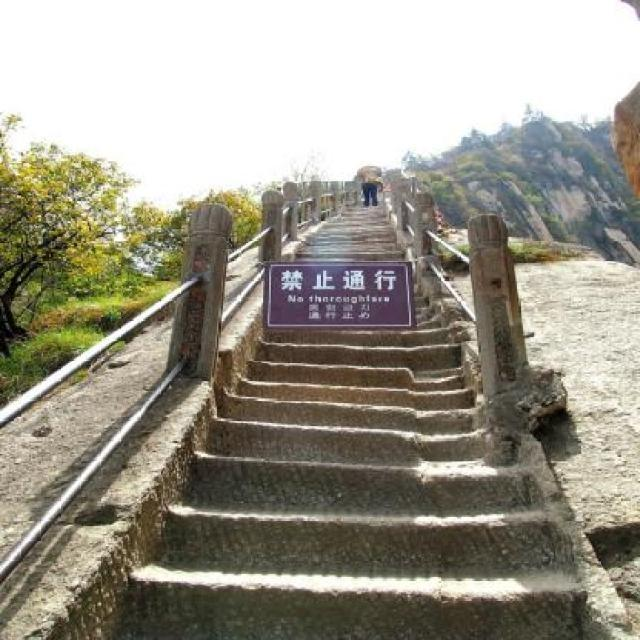stair: (104, 194, 598, 640)
